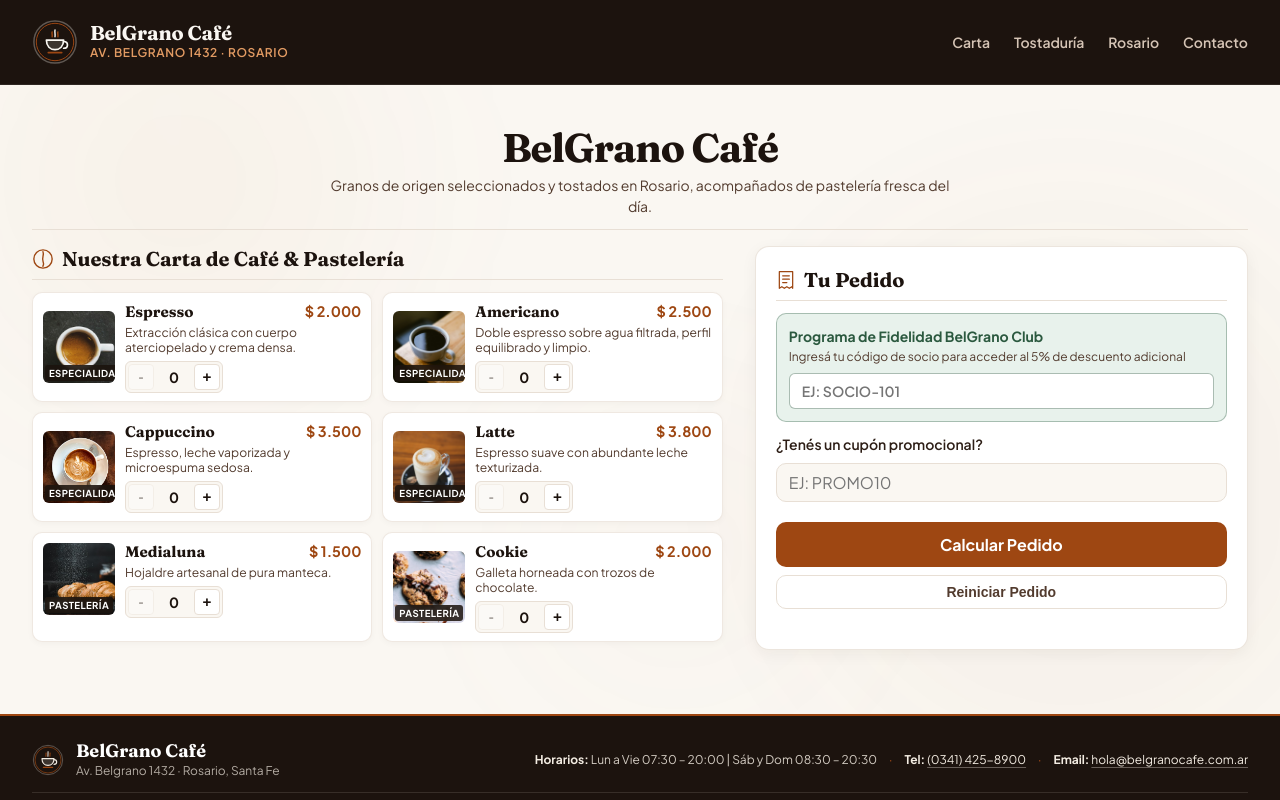
Test: BelGrano Café - Responsive & Visual Integrity Tests › No debe tener desbordamiento horizontal en Desktop (1280x800)
Check: the heading "BelGrano Café" is shown, box left=502, top=123, right=778, bottom=172
Note: Agregar productos para que el pedido tenga ítems
Click the button with test id "btn-inc-espresso": click(207, 377) left=194, top=364, right=220, bottom=390
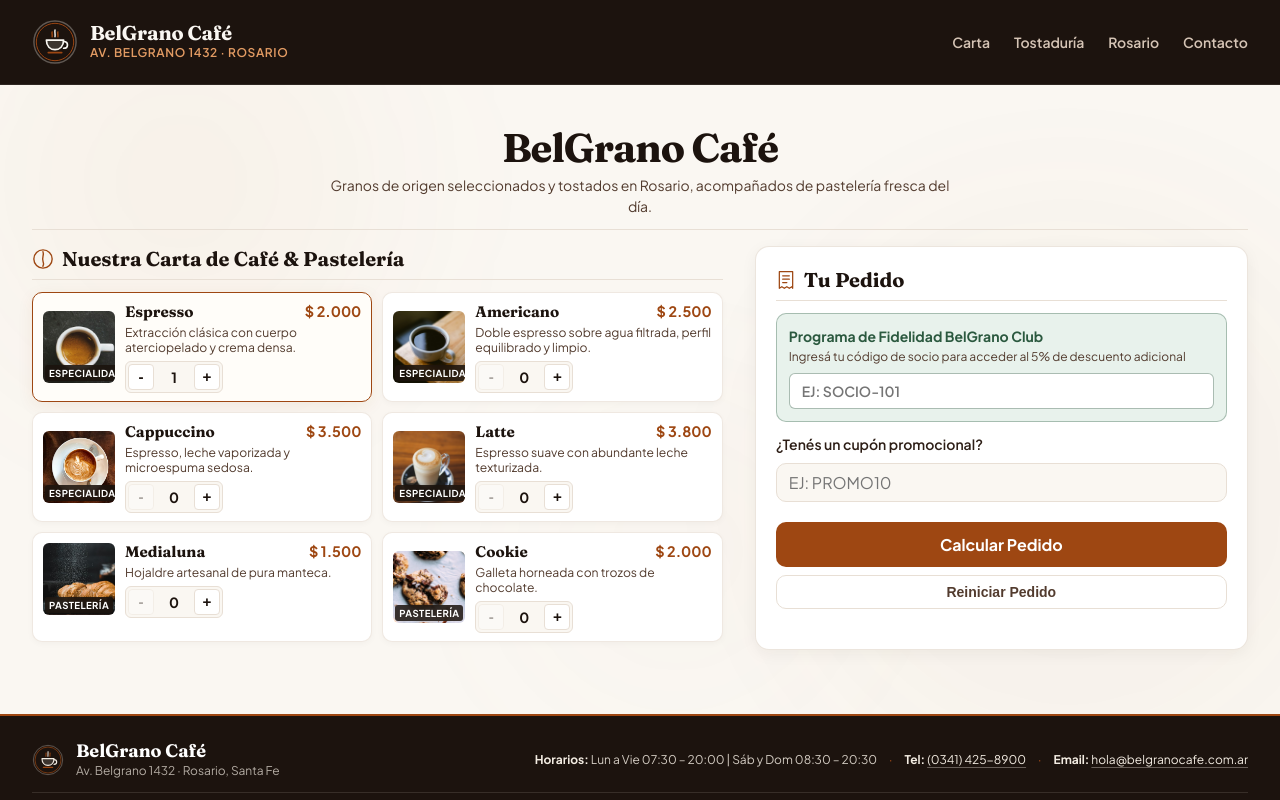
Click the button with test id "btn-inc-espresso": click(207, 377) left=194, top=364, right=220, bottom=390
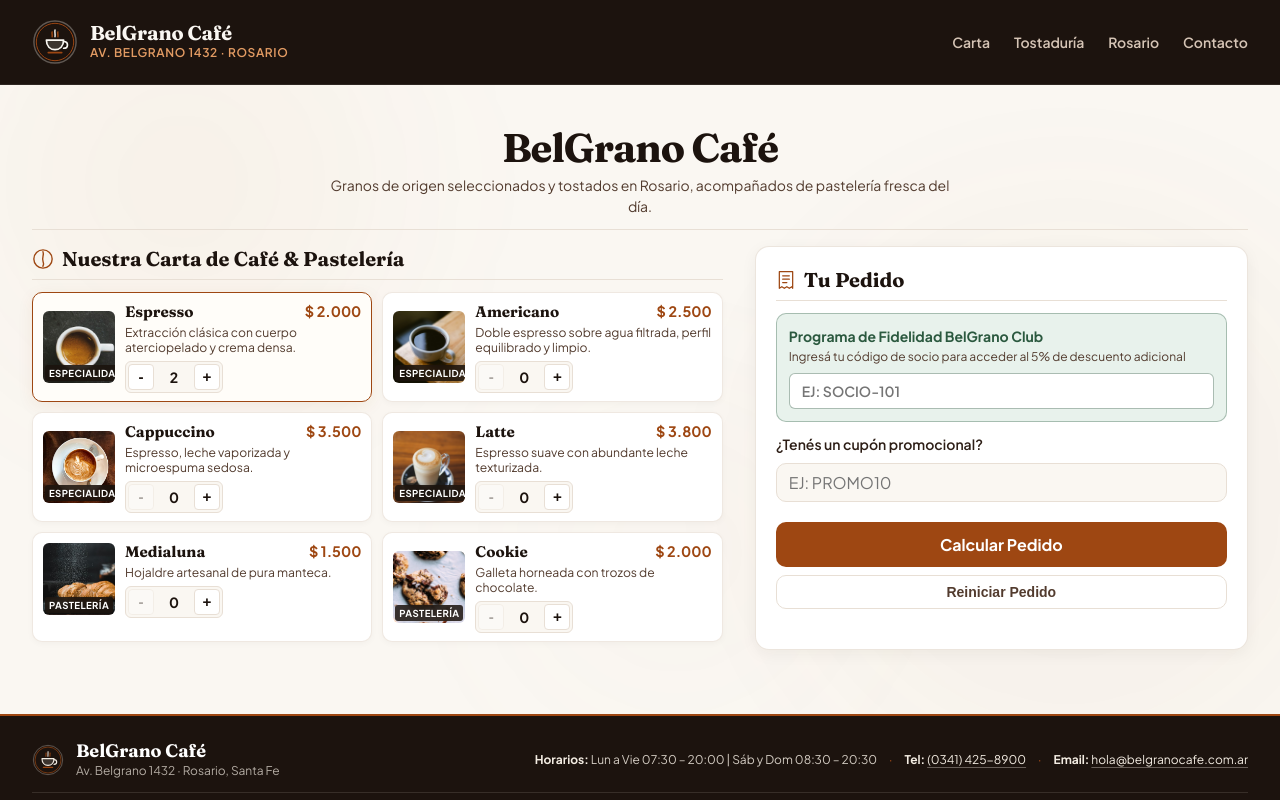
Check: the number field with test id "qty-input-espresso" holds "2", box left=156, top=368, right=192, bottom=386
Note: Calcular pedido para desplegar alertas y recibo
Click the button with test id "btn-calculate": click(1002, 545) left=776, top=522, right=1227, bottom=567
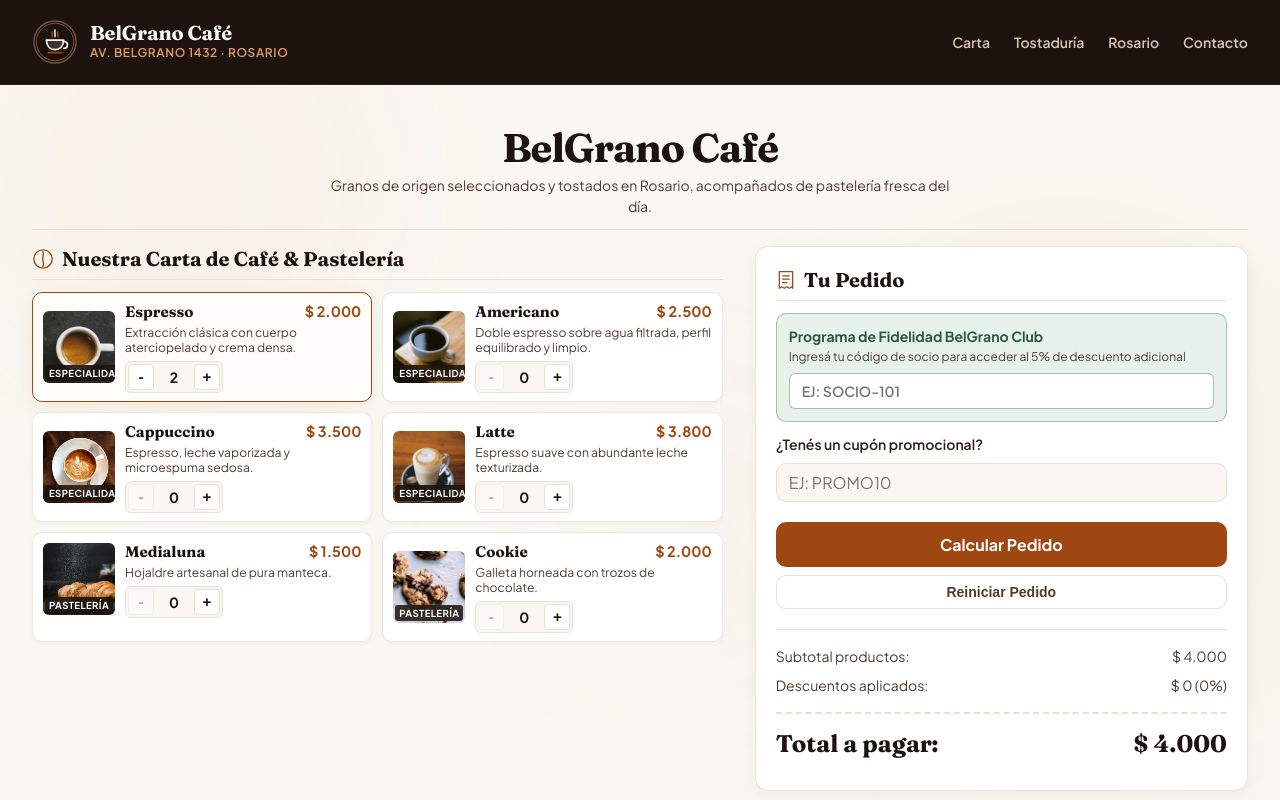
Check: the element with test id "order-receipt" is shown, box left=776, top=629, right=1227, bottom=762
